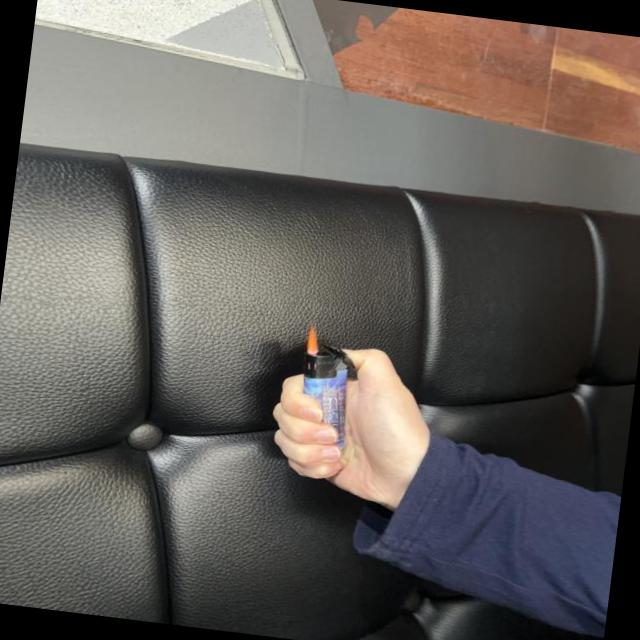Fire: (304, 326, 320, 355)
